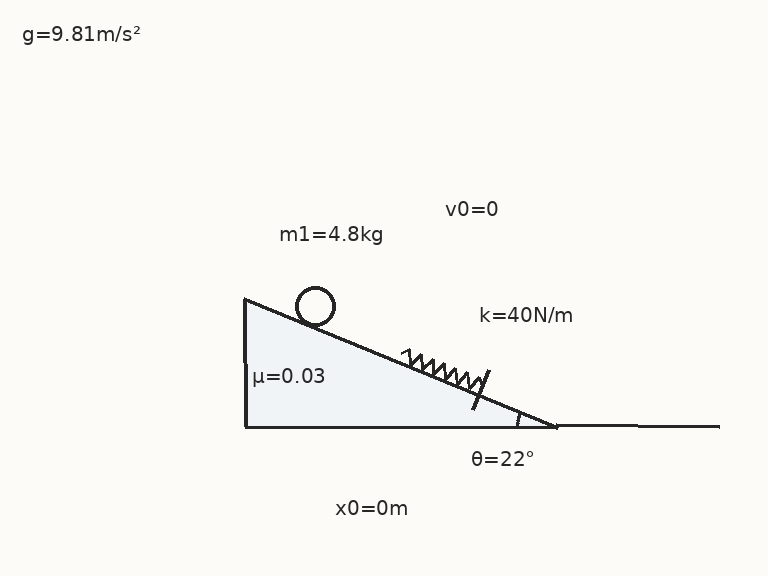ball: (293, 284, 337, 328)
ramp: (243, 298, 559, 428)
spring: (399, 347, 484, 390)
